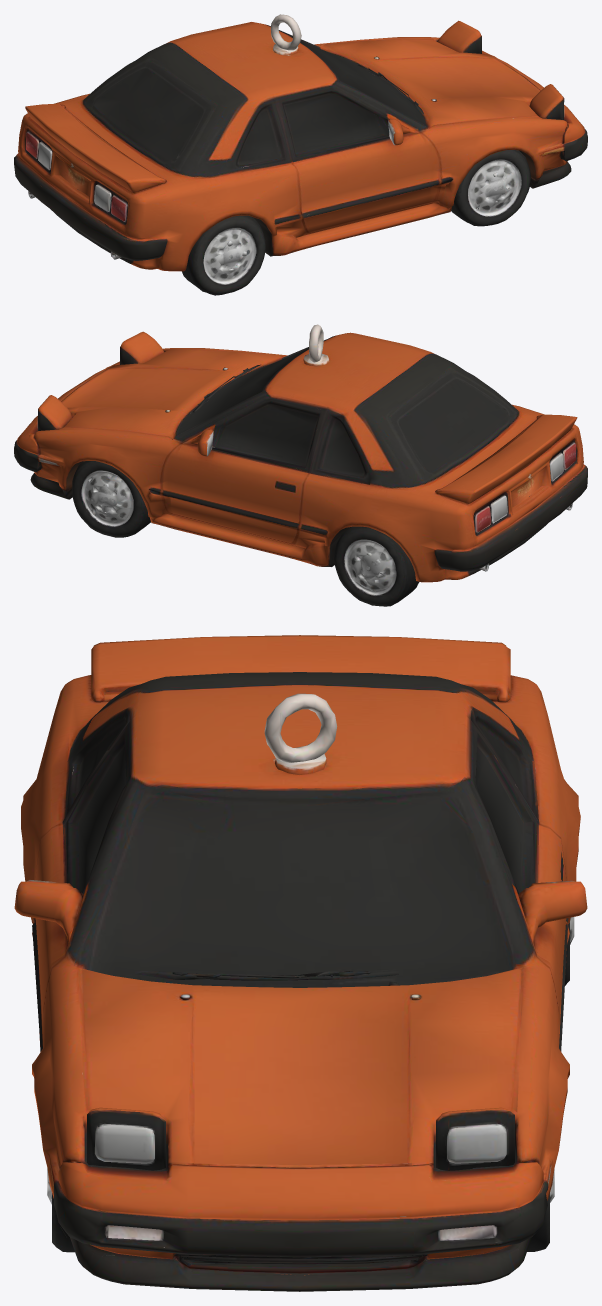
Rendered from car.glb.
The picture shows the model from 3 angles, top to bottom: view 1: azimuth 30°, elevation 25°; view 2: azimuth 150°, elevation 25°; view 3: azimuth 270°, elevation 25°; orthographic projection. The views are drawn at different scales.
Parts seen in each view (by area): view 1: tripo_node_61dace09-3923-4da6-987a-fde175d26878; view 2: tripo_node_61dace09-3923-4da6-987a-fde175d26878; view 3: tripo_node_61dace09-3923-4da6-987a-fde175d26878.
Part boxes in pixels (x1=…): tripo_node_61dace09-3923-4da6-987a-fde175d26878: x1=14, y1=14, x2=587, y2=295; tripo_node_61dace09-3923-4da6-987a-fde175d26878: x1=14, y1=324, x2=587, y2=606; tripo_node_61dace09-3923-4da6-987a-fde175d26878: x1=14, y1=635, x2=587, y2=1291.
Size of the model in its own units: 0.3021 by 0.12 by 0.1543.
Materials: 1 (1 with a texture image).
